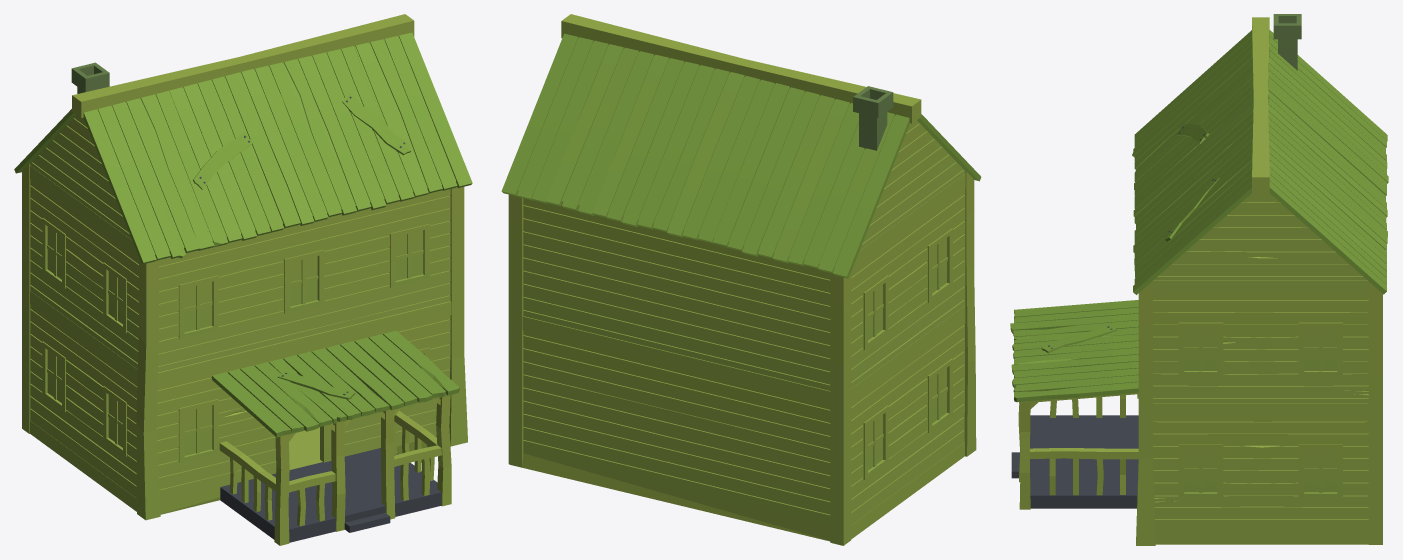
The model's file is House_04.fbx.
3 renders of one model, left to right at view 1: azimuth 30°, elevation 25°; view 2: azimuth 150°, elevation 25°; view 3: azimuth 270°, elevation 25°, orthographic. The views are drawn at different scales.
Visible parts, largest first — view 1: House_04; view 2: House_04; view 3: House_04.
Part boxes in pixels (<box>): House_04: <box>14,14,472,545</box>; House_04: <box>501,14,981,545</box>; House_04: <box>1010,14,1388,545</box>.
Size of the model in its own units: 7.9 by 8.81 by 7.9.
